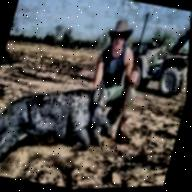boar: (0, 55, 126, 192)
